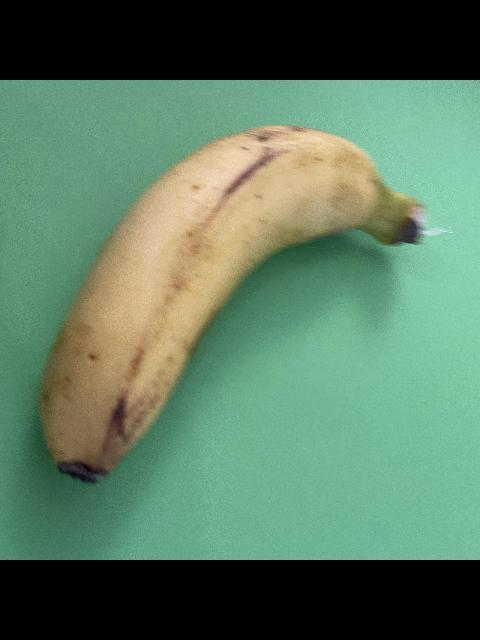banana: (36, 121, 434, 486)
